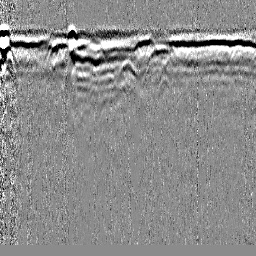cavity: (117, 57, 138, 80)
